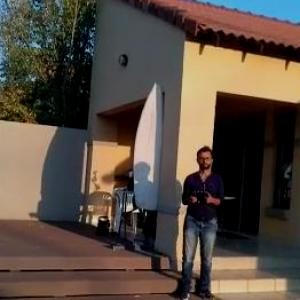follow: (173, 141, 228, 299)
